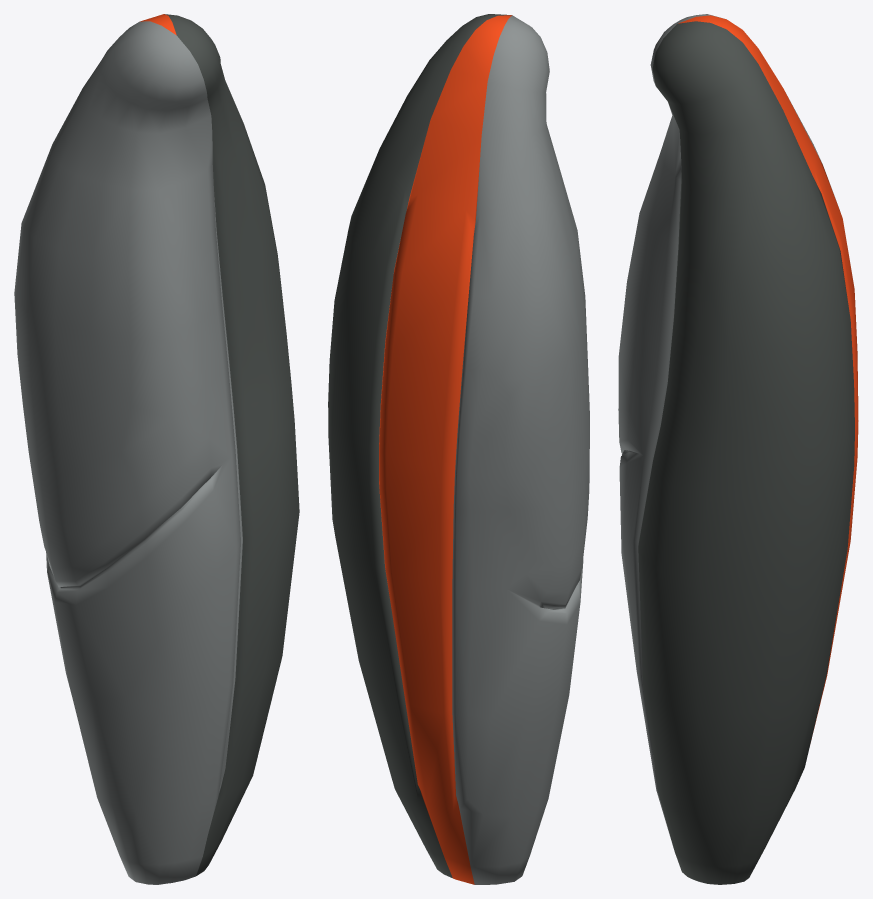
File: xsens_LeftUpperLeg.dae
The picture shows the model from 3 angles, left to right: view 1: azimuth 30°, elevation 25°; view 2: azimuth 150°, elevation 25°; view 3: azimuth 270°, elevation 25°; orthographic projection.
Visible parts, largest first — view 1: LeftUpperLeg; view 2: LeftUpperLeg; view 3: LeftUpperLeg.
Boxes of the visible parts, x1,y1,x2,y2 form: LeftUpperLeg: (14, 14, 299, 884); LeftUpperLeg: (328, 14, 589, 884); LeftUpperLeg: (618, 14, 858, 884).
Bounding box in the file's own units: 0.1274 × 0.1123 × 0.4383.
